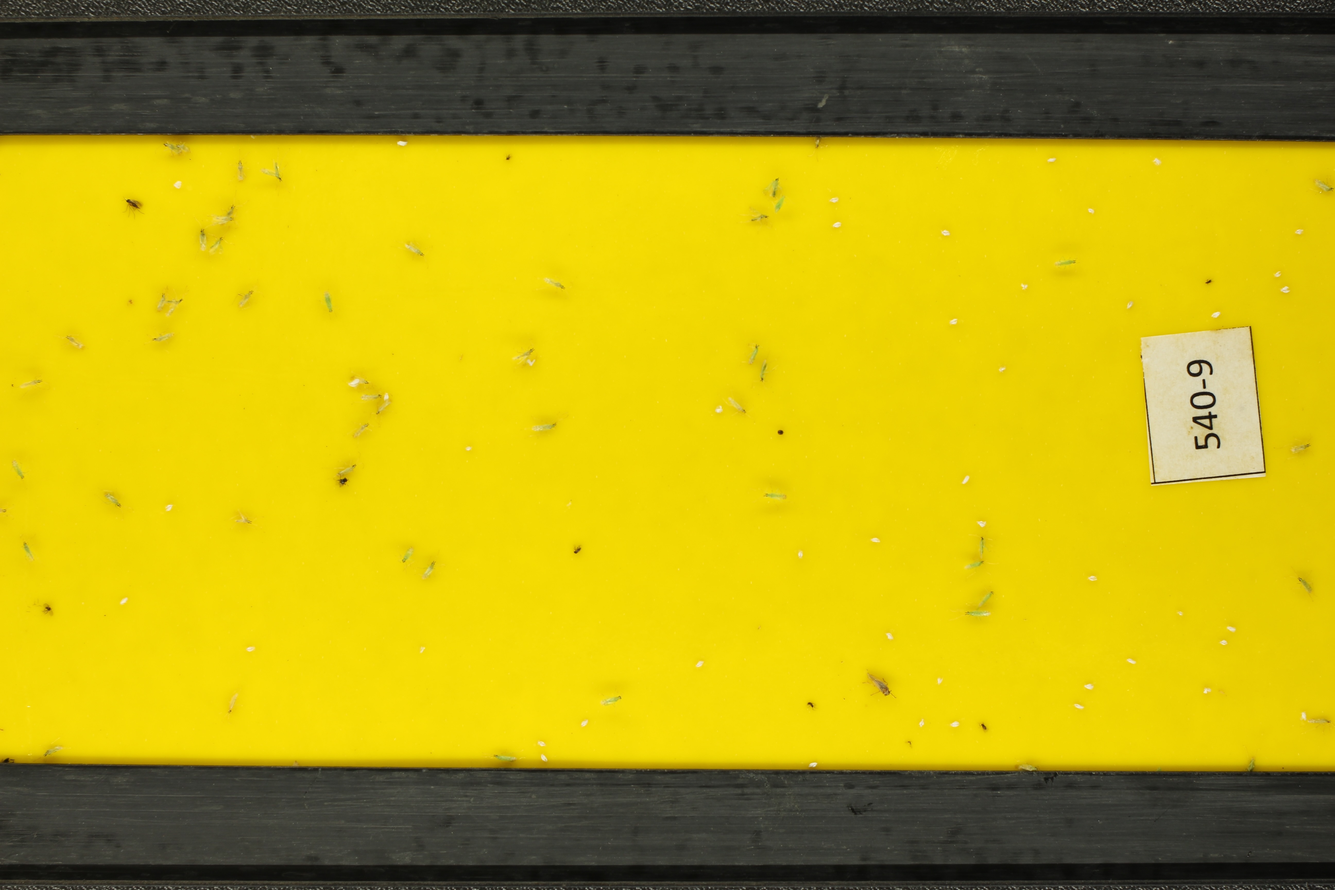MR: (524, 411, 576, 440), (96, 485, 135, 522), (536, 270, 578, 302), (223, 507, 270, 533), (1288, 567, 1320, 601), (6, 451, 33, 491), (321, 455, 370, 477), (1050, 251, 1091, 277), (725, 394, 756, 427), (36, 740, 73, 765), (1304, 169, 1335, 198), (742, 207, 777, 231), (804, 137, 830, 168), (398, 538, 418, 576), (756, 354, 777, 390), (758, 485, 793, 506), (223, 683, 243, 719), (18, 534, 42, 564), (421, 556, 442, 590), (510, 342, 542, 364), (742, 337, 761, 371), (972, 588, 1000, 609), (759, 172, 778, 199), (1285, 436, 1319, 451), (486, 750, 521, 764), (973, 535, 995, 557), (597, 693, 631, 707), (964, 558, 991, 574), (959, 610, 995, 622), (1311, 712, 1333, 730), (774, 192, 789, 218)
WF: (955, 472, 974, 486), (1084, 572, 1101, 586), (793, 547, 810, 560), (1123, 656, 1141, 668), (1083, 680, 1098, 694), (1151, 156, 1164, 172), (914, 717, 931, 729), (346, 376, 360, 390), (1224, 622, 1239, 635), (171, 178, 186, 191), (692, 657, 708, 669), (534, 753, 553, 763), (883, 629, 897, 642), (117, 594, 129, 609), (947, 719, 962, 731), (392, 138, 410, 148), (1199, 685, 1215, 696), (1279, 284, 1292, 297), (1296, 709, 1309, 722), (162, 501, 174, 515), (945, 317, 960, 328), (938, 228, 953, 239), (1126, 297, 1137, 312), (869, 535, 884, 546), (1070, 701, 1085, 712), (1271, 269, 1284, 281), (996, 363, 1010, 374), (244, 643, 258, 654), (934, 676, 949, 686), (1216, 638, 1231, 648), (828, 194, 840, 206), (418, 645, 429, 658), (807, 759, 821, 769), (535, 739, 549, 748), (1173, 609, 1187, 618), (714, 404, 725, 415), (580, 717, 592, 727), (1046, 157, 1059, 166), (527, 359, 538, 369), (832, 220, 842, 231), (1019, 281, 1029, 292), (1211, 310, 1221, 321), (382, 391, 392, 402), (976, 519, 989, 527), (1085, 206, 1096, 215), (1296, 226, 1304, 236), (464, 445, 475, 451)
